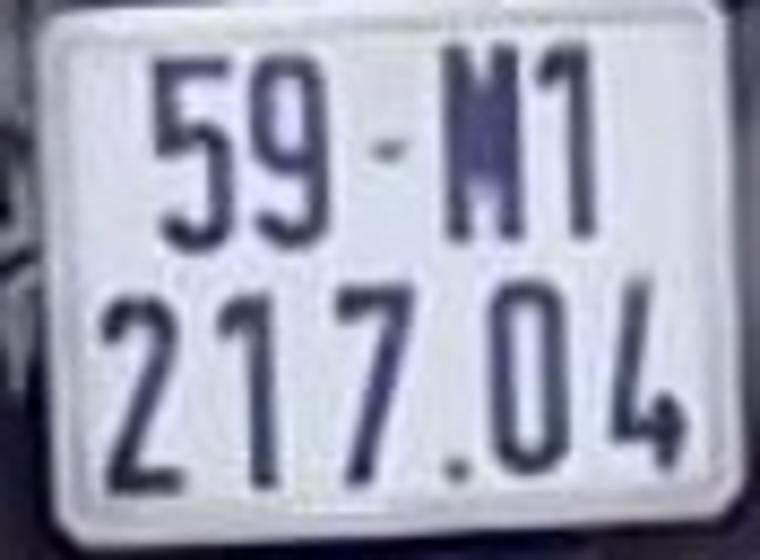-: (362, 128, 411, 171)
.: (433, 444, 480, 494)
0: (474, 278, 580, 479)
1: (218, 282, 289, 482), (542, 38, 606, 248)
2: (90, 284, 192, 505)
4: (601, 276, 696, 475)
5: (141, 47, 242, 259)
7: (324, 268, 420, 485)
9: (248, 42, 339, 252)
M: (433, 37, 531, 246)
